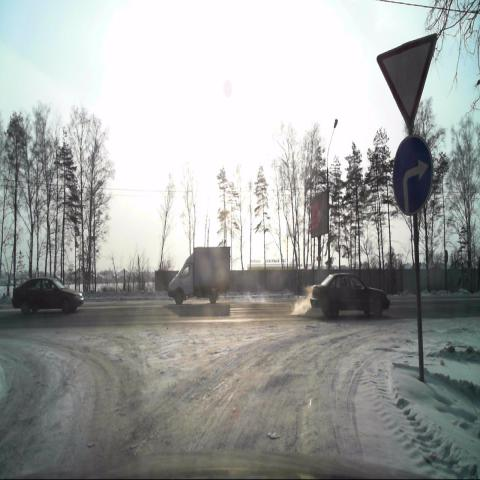2_4: (376, 31, 438, 129)
4_1_2: (393, 136, 433, 217)
